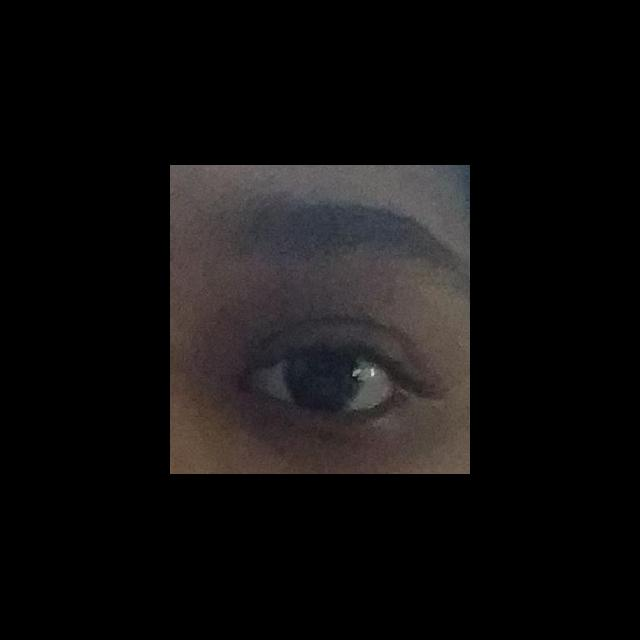eye: (259, 349, 392, 413)
iris: (283, 353, 361, 407)
